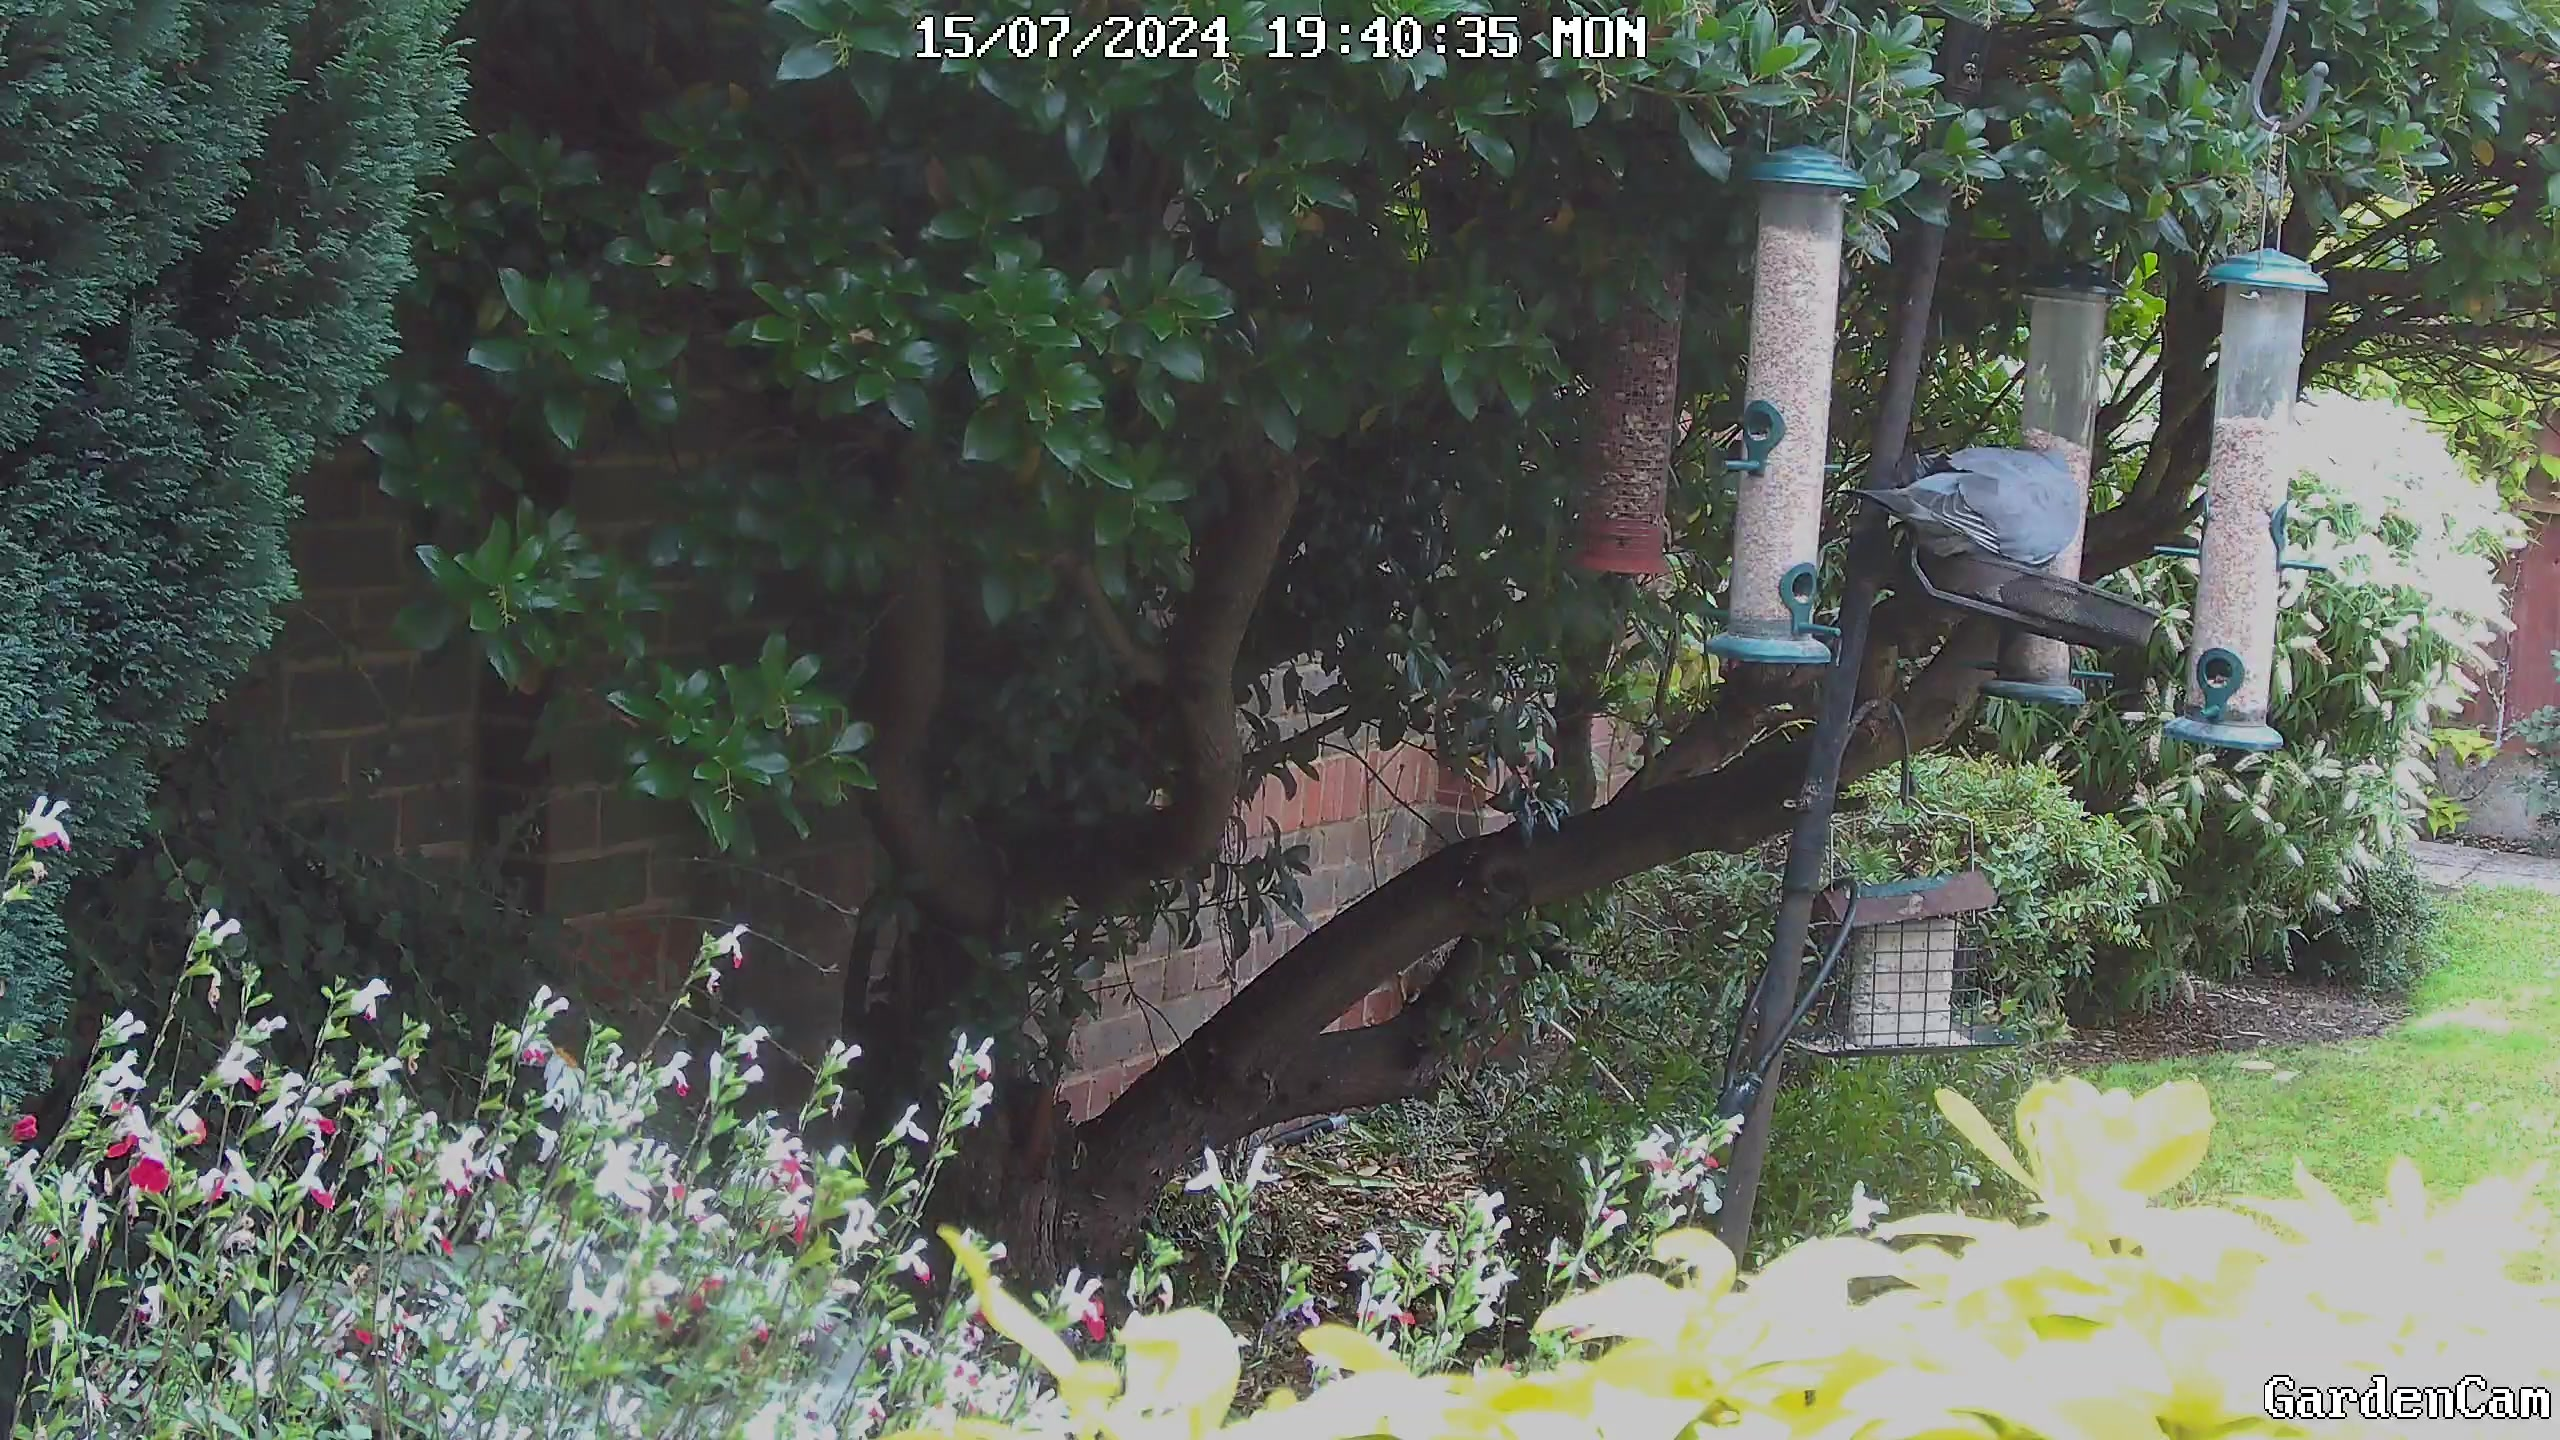Wood_Pigeon: (1834, 404, 2096, 615)
